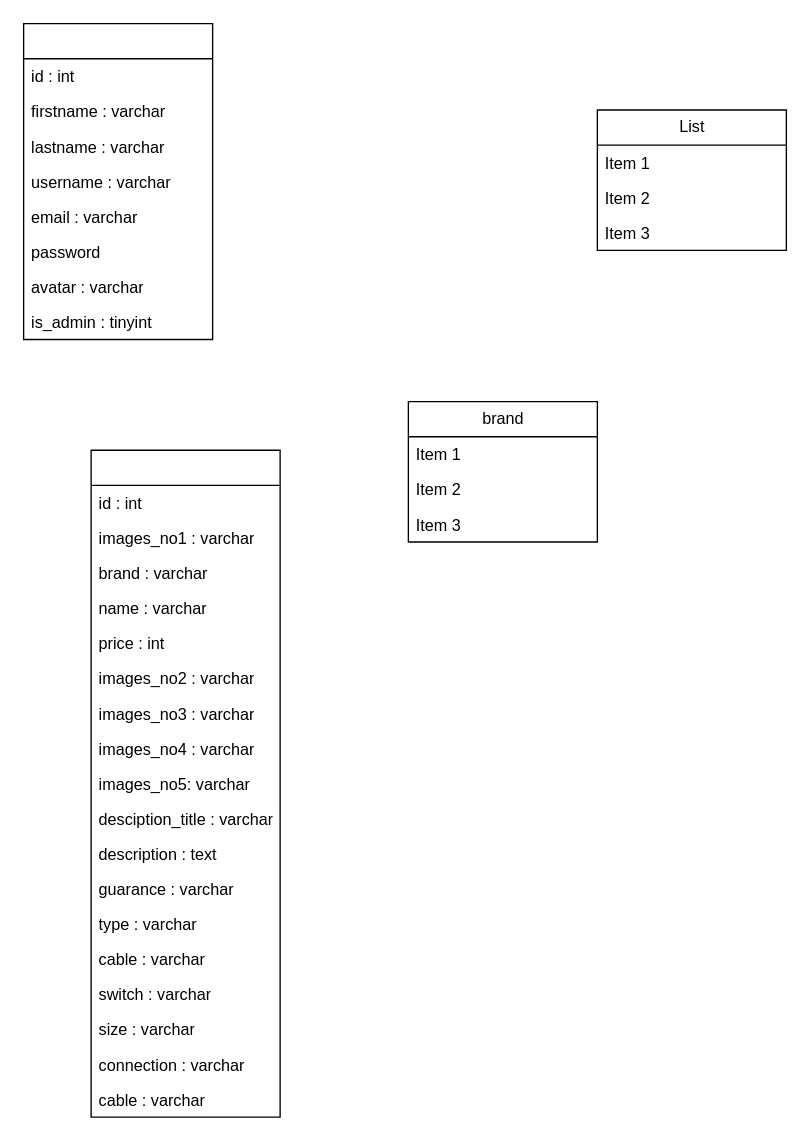
Some shapes in this 810 by 1145 pixel diagram are drawn without their labels. The box of each missing label's shape, as (x1, y1, x2, y2) in pixels:
products: (90, 449, 280, 1117)
users: (22, 22, 213, 340)
